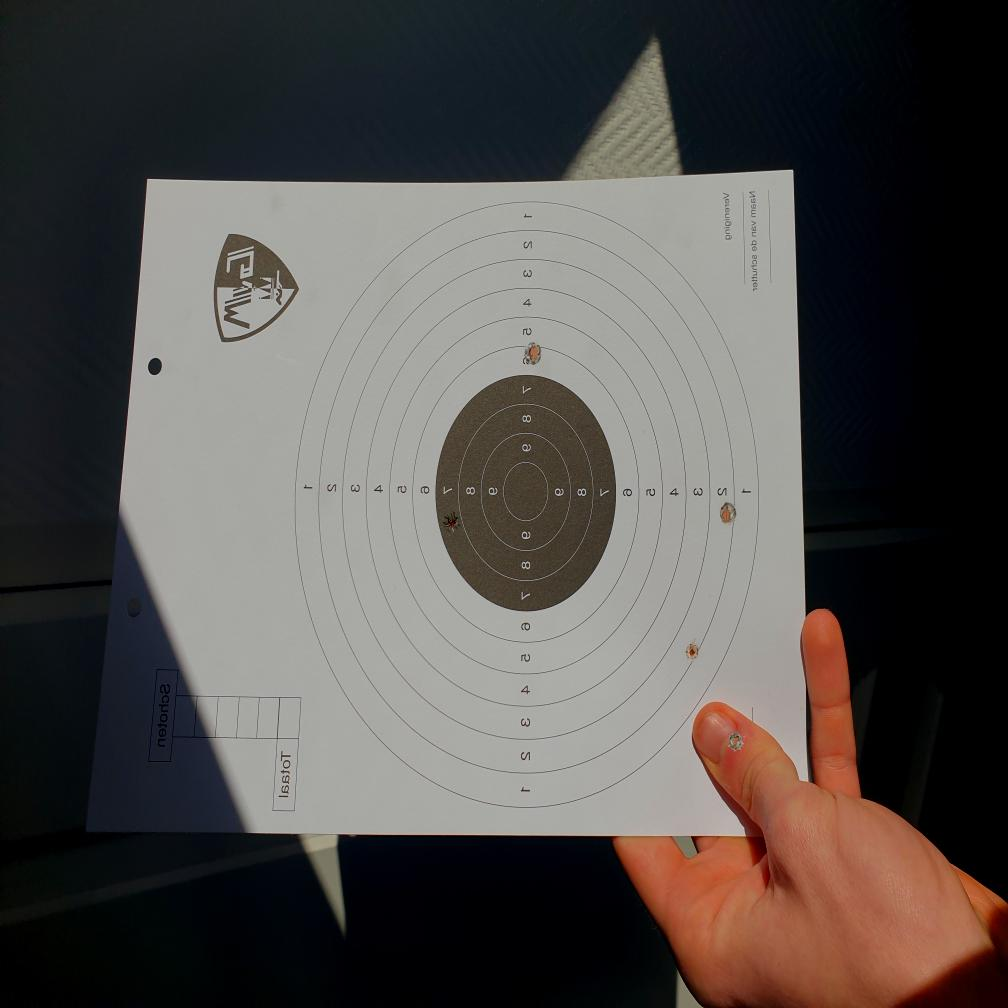2: (685, 638, 701, 663), (720, 502, 736, 525)
6: (524, 341, 542, 366)
7: (443, 512, 460, 533)
Target: (293, 197, 760, 814)
black_contour: (434, 377, 616, 611)
